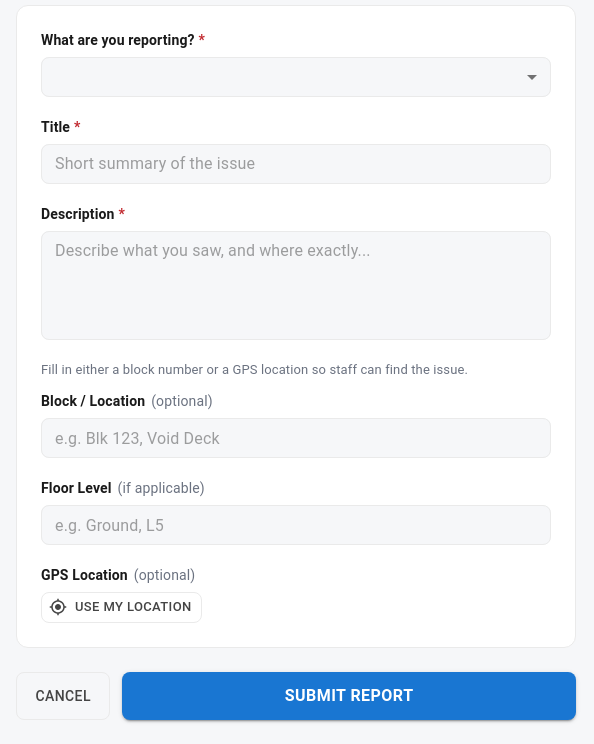
Test: SubmitReport - other behaviour › shows field validation errors and sends nothing when the form is empty
(page scrolled)
Step 1. Click the button "Submit Report" → (349, 696), box [122,672,576,720]
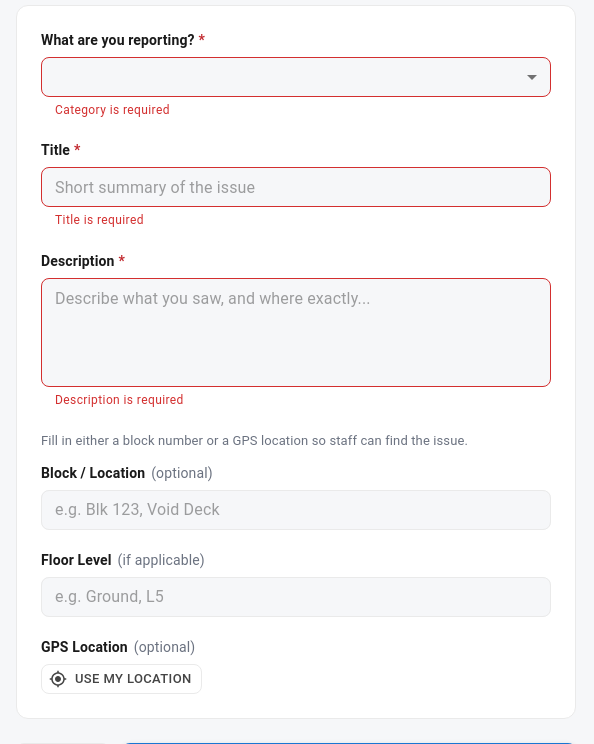
Expected: the text "Title is required" is shown, [55,213,144,227]
Expected: the text "Description is required" is shown, [55,393,184,407]
Expected: the text "Category is required" is shown, [55,102,170,116]
